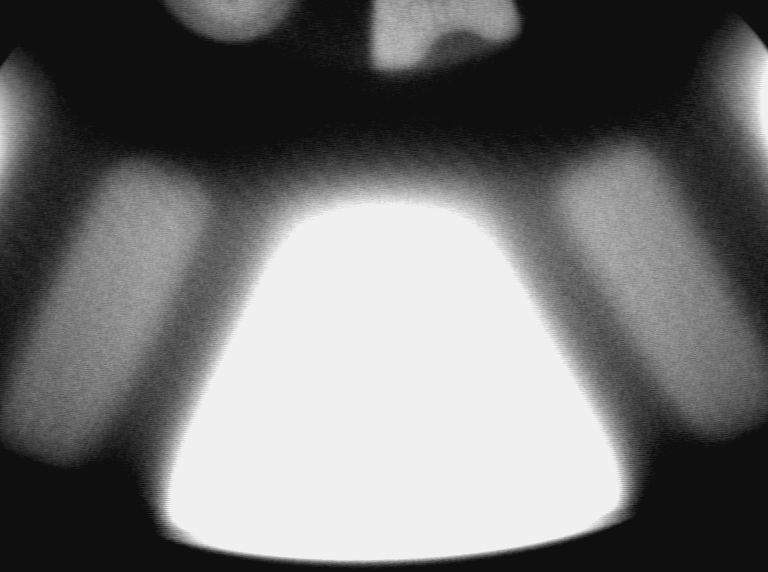defect: (12, 406, 30, 451)
